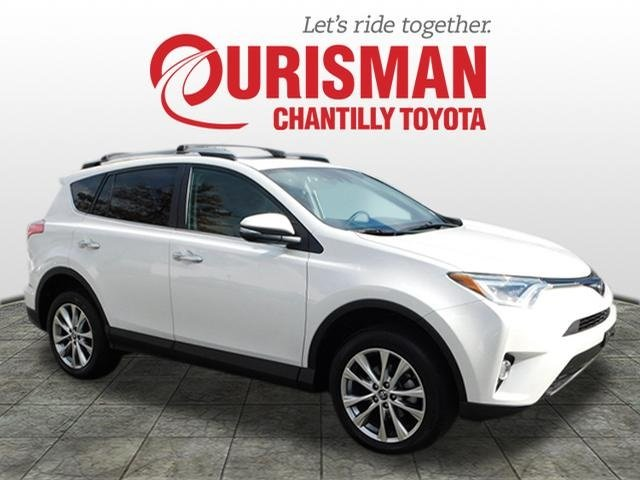Toyota RAV-4: (22, 153, 619, 458)
